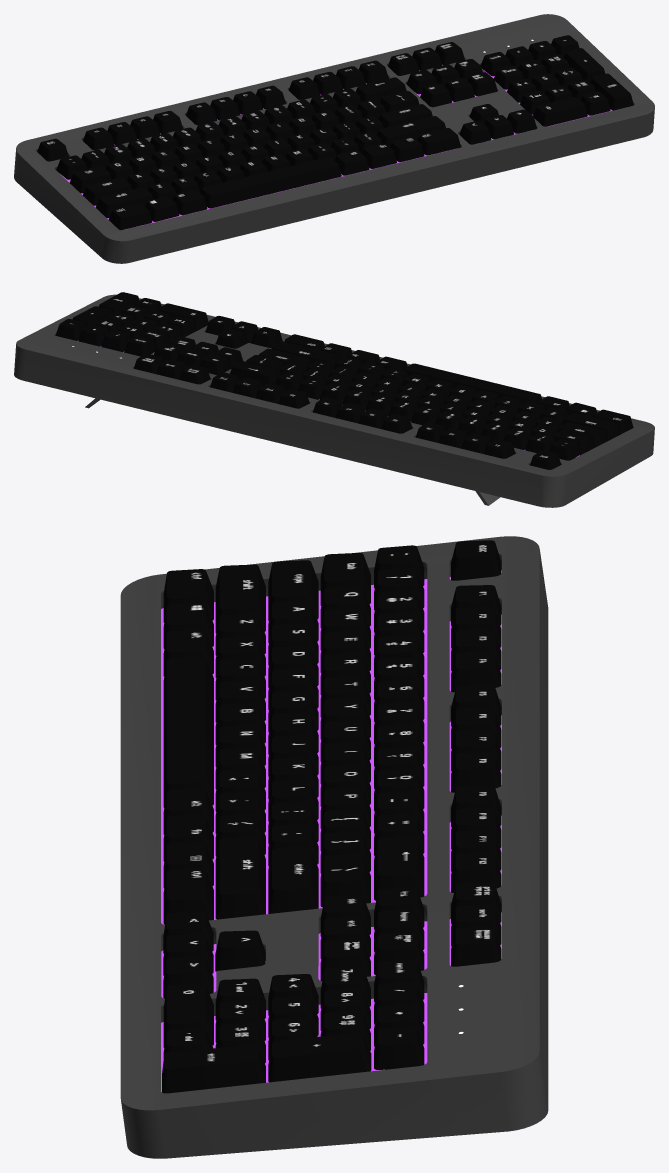
File: keyboard3.glb
3 renders of one model, top to bottom at view 1: azimuth 30°, elevation 25°; view 2: azimuth 150°, elevation 25°; view 3: azimuth 270°, elevation 25°, orthographic. The views are drawn at different scales.
Parts seen in each view (by area): view 1: Board, Space, Num 0, Shift R, Num Enter, Shift L, Ctrl R, Ctrl L, Backspace, Num +, Enter, CapsLk (+72 smaller); view 2: Board, Space, Backspace, Shift R, Shift L, Num 0, CapsLk, Num Enter, Num Lock, Enter, Tab, Arrow Left (+42 smaller); view 3: Board, Space, Num Enter, Num +, Shift R, Enter, Backspace, Shift L, Num 0, Ctrl R, CapsLk, \ (+93 smaller).
Part boxes in pixels (left/top/right/bottom): Board: left=14, top=14, right=654, bottom=263; Space: left=200, top=157, right=341, bottom=208; Num 0: left=533, top=97, right=587, bottom=126; Shift R: left=377, top=116, right=445, bottom=146; Num Enter: left=590, top=73, right=633, bottom=110; Shift L: left=95, top=187, right=153, bottom=218; Ctrl R: left=417, top=128, right=460, bottom=155; Ctrl L: left=108, top=203, right=151, bottom=230; Backspace: left=355, top=77, right=406, bottom=102; Num +: left=564, top=48, right=605, bottom=82; Enter: left=378, top=104, right=432, bottom=128; CapsLk: left=82, top=177, right=132, bottom=205; Board: left=14, top=294, right=654, bottom=507; Space: left=404, top=363, right=541, bottom=404; Backspace: left=230, top=361, right=280, bottom=386; Shift R: left=271, top=341, right=339, bottom=367; Shift L: left=562, top=412, right=620, bottom=441; Num 0: left=157, top=303, right=208, bottom=330; CapsLk: left=558, top=422, right=606, bottom=447; Num Enter: left=99, top=292, right=139, bottom=314; Num Lock: left=124, top=335, right=155, bottom=356; Enter: left=259, top=348, right=311, bottom=370; Tab: left=554, top=430, right=593, bottom=455; Arrow Left: left=251, top=327, right=282, bottom=347; Board: left=120, top=536, right=548, bottom=1158; Space: left=163, top=656, right=213, bottom=807; Num Enter: left=162, top=1045, right=265, bottom=1093; Num +: left=268, top=1032, right=371, bottom=1082; Shift R: left=215, top=837, right=265, bottom=919; Enter: left=268, top=847, right=318, bottom=913; Backspace: left=374, top=836, right=424, bottom=900; Shift L: left=215, top=564, right=265, bottom=633; Num 0: left=163, top=983, right=213, bottom=1047; Ctrl R: left=163, top=868, right=213, bottom=924; CapsLk: left=268, top=560, right=318, bottom=620; \: left=320, top=854, right=370, bottom=907.
Size of the model in its own units: 4.8 by 0.4398 by 1.62.
6 materials, 1 textured.
